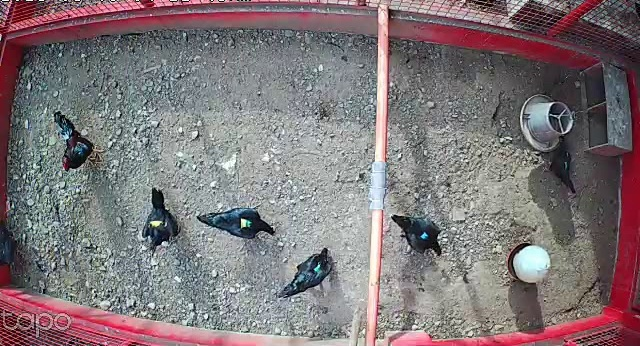Chicken: (194, 203, 279, 241), (278, 243, 336, 298), (140, 182, 181, 256), (391, 211, 443, 257), (539, 135, 579, 194), (0, 218, 25, 275)
Rooster: (47, 109, 108, 172)
Saddle_Color_Blue: (421, 232, 429, 239)
Saddle_Color_Green: (313, 264, 323, 273)
Saddle_Color_Yellow: (147, 216, 167, 232)
Saddle_Color_YellowGreen: (241, 217, 254, 229)
